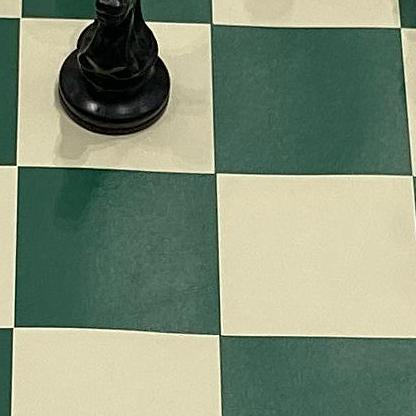black-knight: (42, 0, 193, 151)
